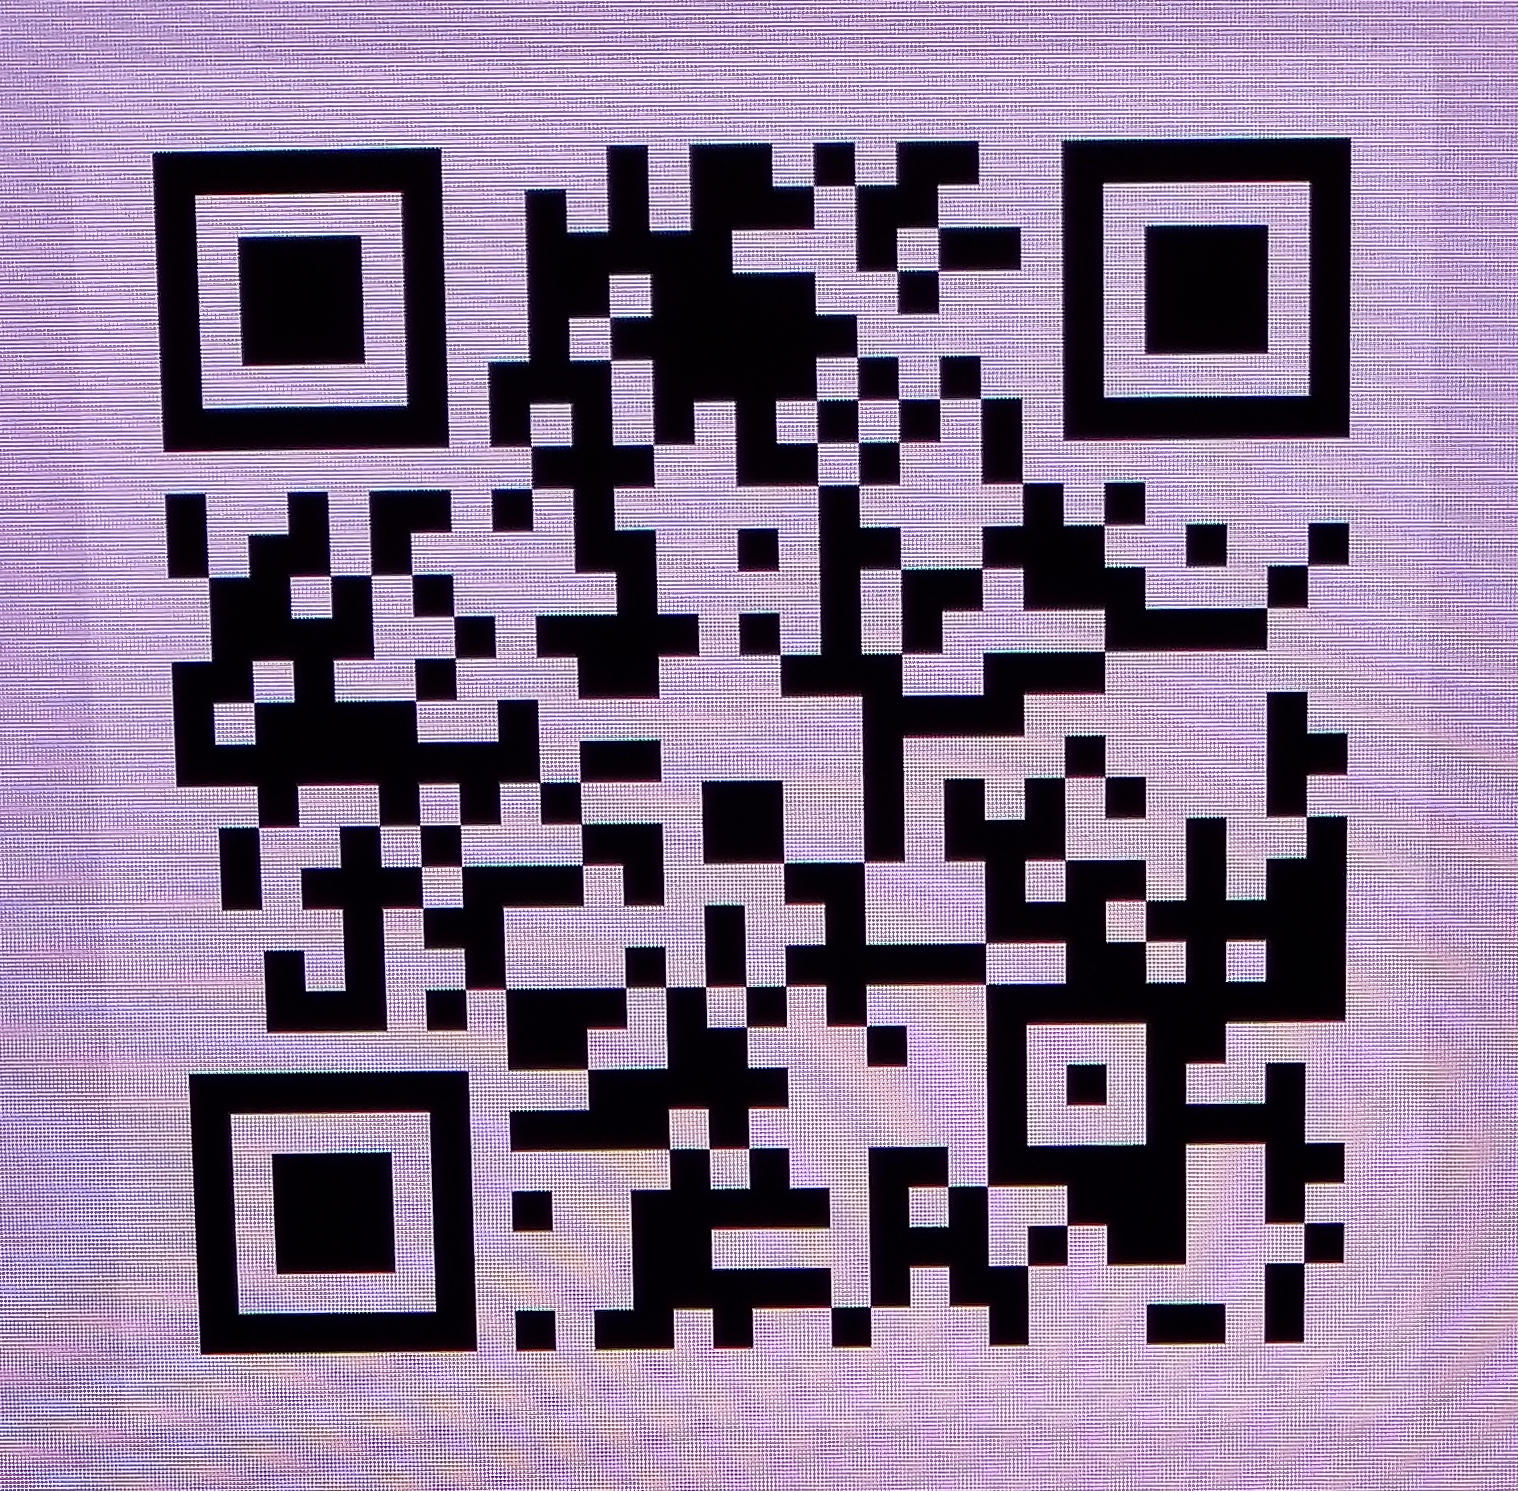QR_CODE: (91, 81, 1446, 1398)
